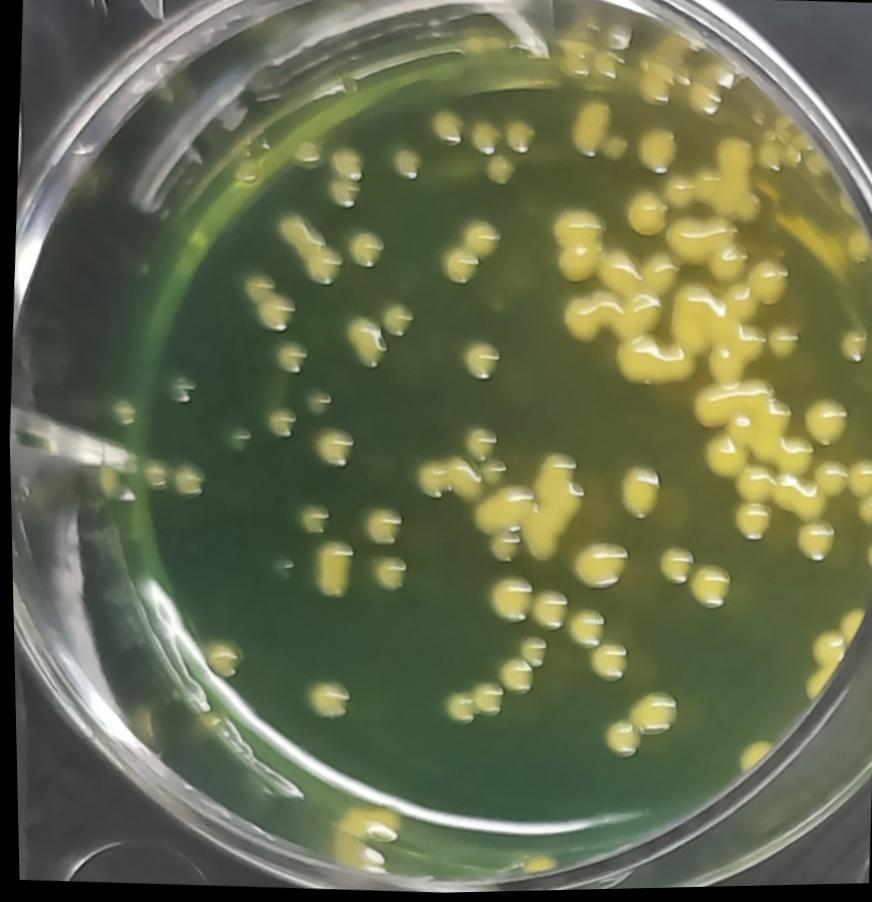ahydrophila: (464, 443, 584, 574), (273, 208, 347, 290), (607, 335, 700, 399), (542, 209, 608, 295), (435, 220, 501, 287), (565, 537, 631, 598), (797, 629, 847, 708), (557, 101, 617, 166), (625, 689, 689, 744), (305, 535, 355, 604), (693, 430, 749, 491), (799, 394, 853, 457), (611, 462, 663, 527), (294, 670, 351, 728), (412, 453, 473, 506), (482, 573, 533, 633), (683, 565, 736, 621), (451, 336, 505, 390), (304, 423, 357, 478), (340, 222, 391, 276), (788, 518, 838, 573), (338, 316, 384, 374), (196, 635, 244, 685), (647, 544, 695, 594), (583, 640, 630, 688), (423, 103, 470, 151), (528, 585, 571, 637), (248, 294, 295, 340), (726, 503, 770, 552), (356, 503, 402, 549), (559, 607, 606, 652), (363, 553, 406, 601), (596, 719, 640, 765), (375, 301, 417, 346), (810, 458, 851, 504), (168, 461, 207, 509), (388, 146, 430, 189), (467, 679, 506, 725), (838, 458, 872, 508), (236, 269, 277, 310), (494, 658, 534, 700), (269, 339, 309, 378), (436, 690, 474, 731), (135, 453, 173, 494), (509, 635, 552, 671), (478, 155, 518, 191), (872, 370, 872, 420)
